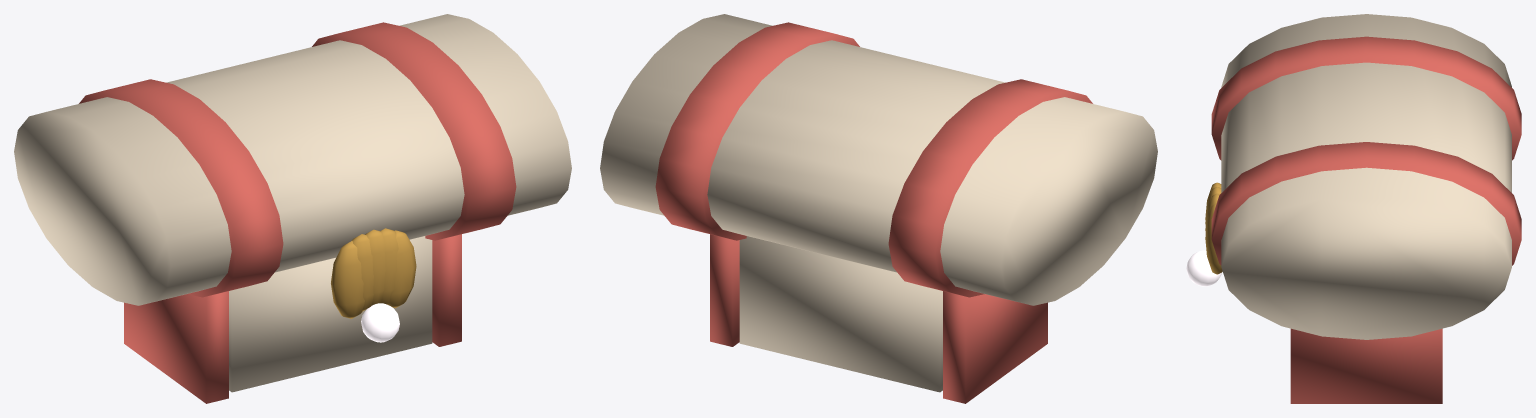
File: opera_detective_box_3.glb
The picture shows the model from 3 angles, left to right: view 1: azimuth 30°, elevation 25°; view 2: azimuth 150°, elevation 25°; view 3: azimuth 270°, elevation 25°; orthographic projection. The views are drawn at different scales.
Visible parts, largest first — view 1: LidTop.003, VisualMesh.003, LidStrap, LidStrap.001; view 2: LidTop.003, VisualMesh.003, LidStrap, LidStrap.001; view 3: LidTop.003, VisualMesh.003, LidStrap, LidStrap.001.
Boxes of the visible parts, x1,y1,x2,y2 form: LidTop.003: (14, 14, 571, 305); VisualMesh.003: (124, 228, 461, 403); LidStrap: (79, 79, 283, 297); LidStrap.001: (312, 22, 516, 240); LidTop.003: (600, 14, 1157, 305); VisualMesh.003: (710, 234, 1047, 403); LidStrap: (888, 79, 1092, 297); LidStrap.001: (655, 22, 859, 240); LidTop.003: (1221, 14, 1511, 339); VisualMesh.003: (1186, 182, 1442, 403); LidStrap: (1211, 36, 1521, 160); LidStrap.001: (1211, 142, 1521, 265).
Bounding box in the file's own units: 3.1 × 1.97 × 2.42.
